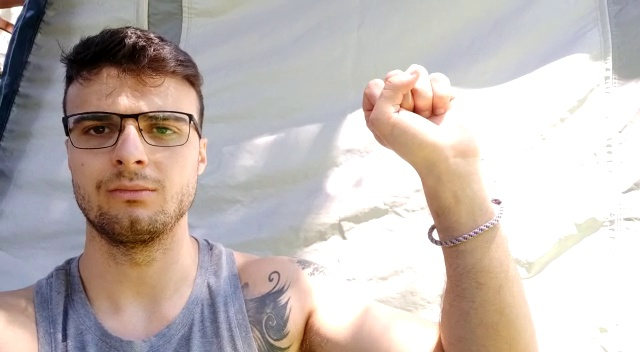Fist: (360, 63, 486, 174)
